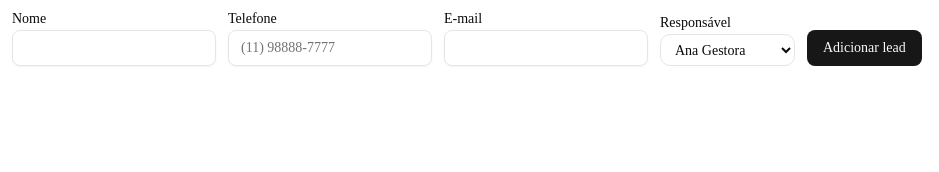
LeadForm › sessão inválida: mostra a frase do servidor, sem reescrever
Type "Cliente Teste" into the field labelled "Nome" at (114, 48), box [12,30,216,66]
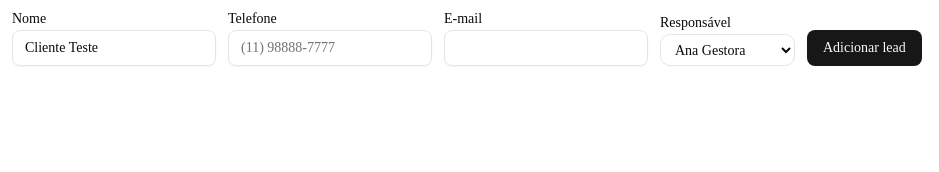
Type "11988887777" into the field labelled "Telefone" at (330, 48), box [228,30,432,66]
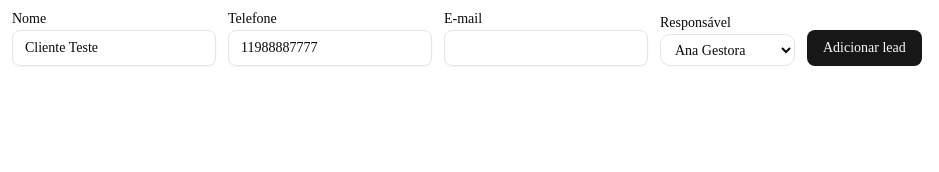
Click the button "Adicionar lead" at (864, 48), box [807,30,922,66]
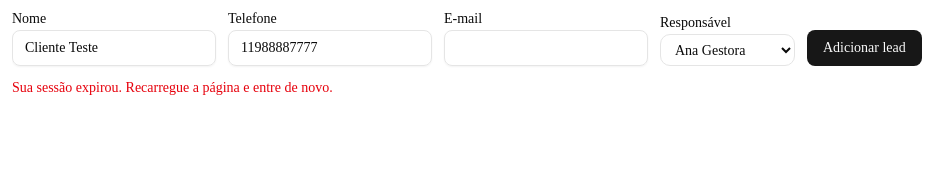
Expected: the text "Sua sessão expirou. Recarregue a página e entre de novo." is shown, [12,80,333,95]
